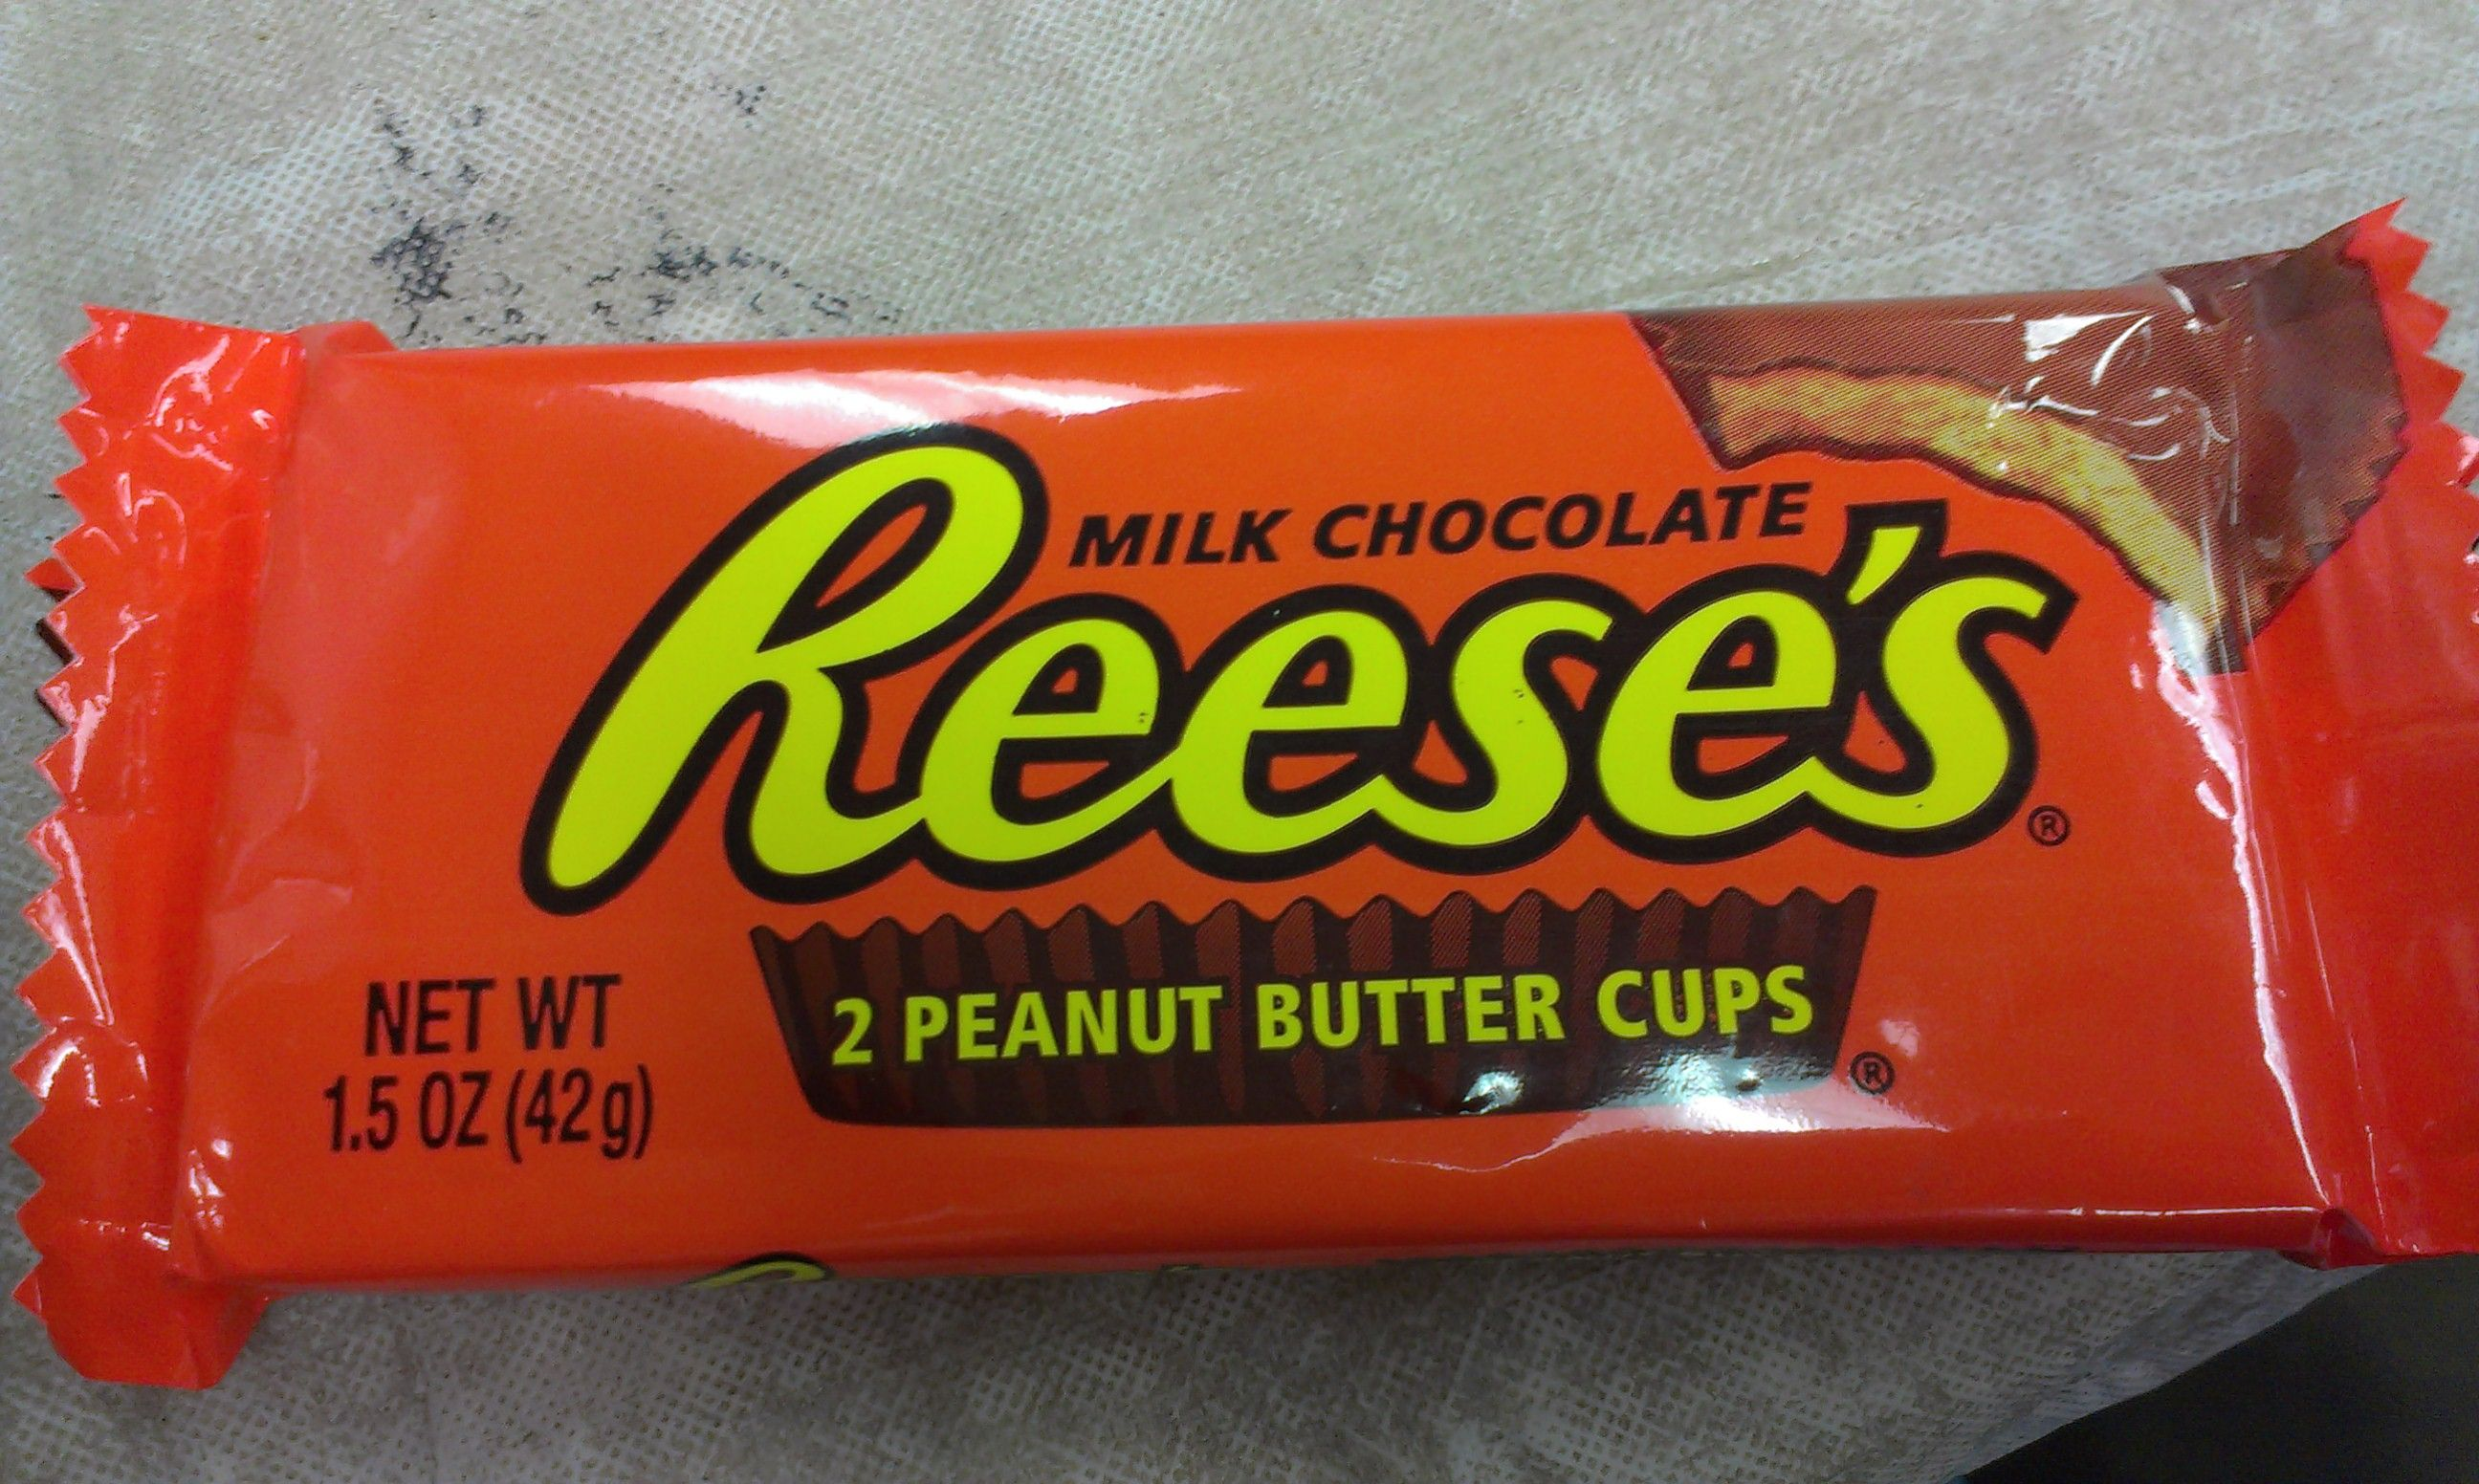reese: (25, 221, 2460, 1290)
